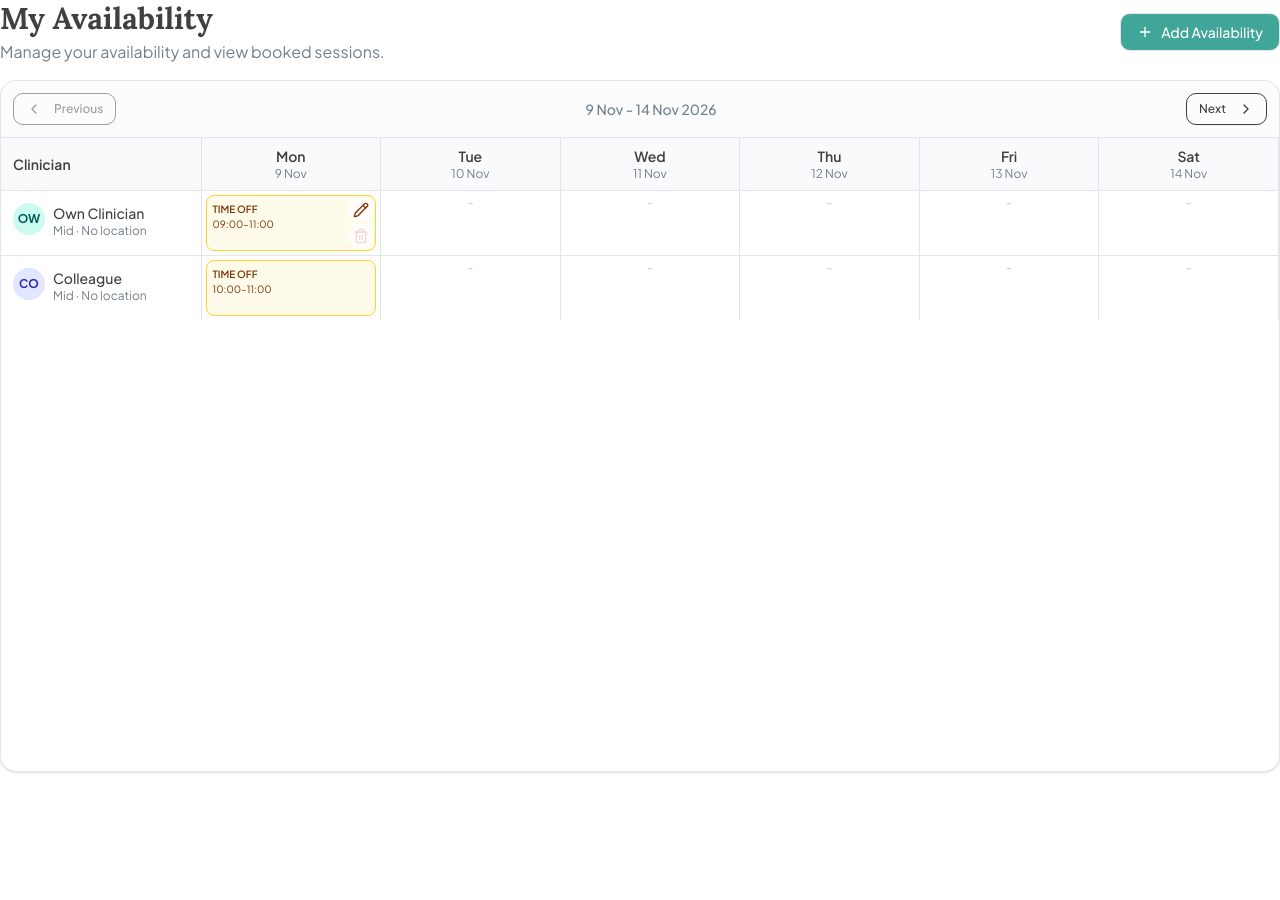
removes an own block after confirmation but offers no delete control for a colleague
Click the button with test id "button-delete-time-off-own-block": (361, 236) [349,224,373,248]
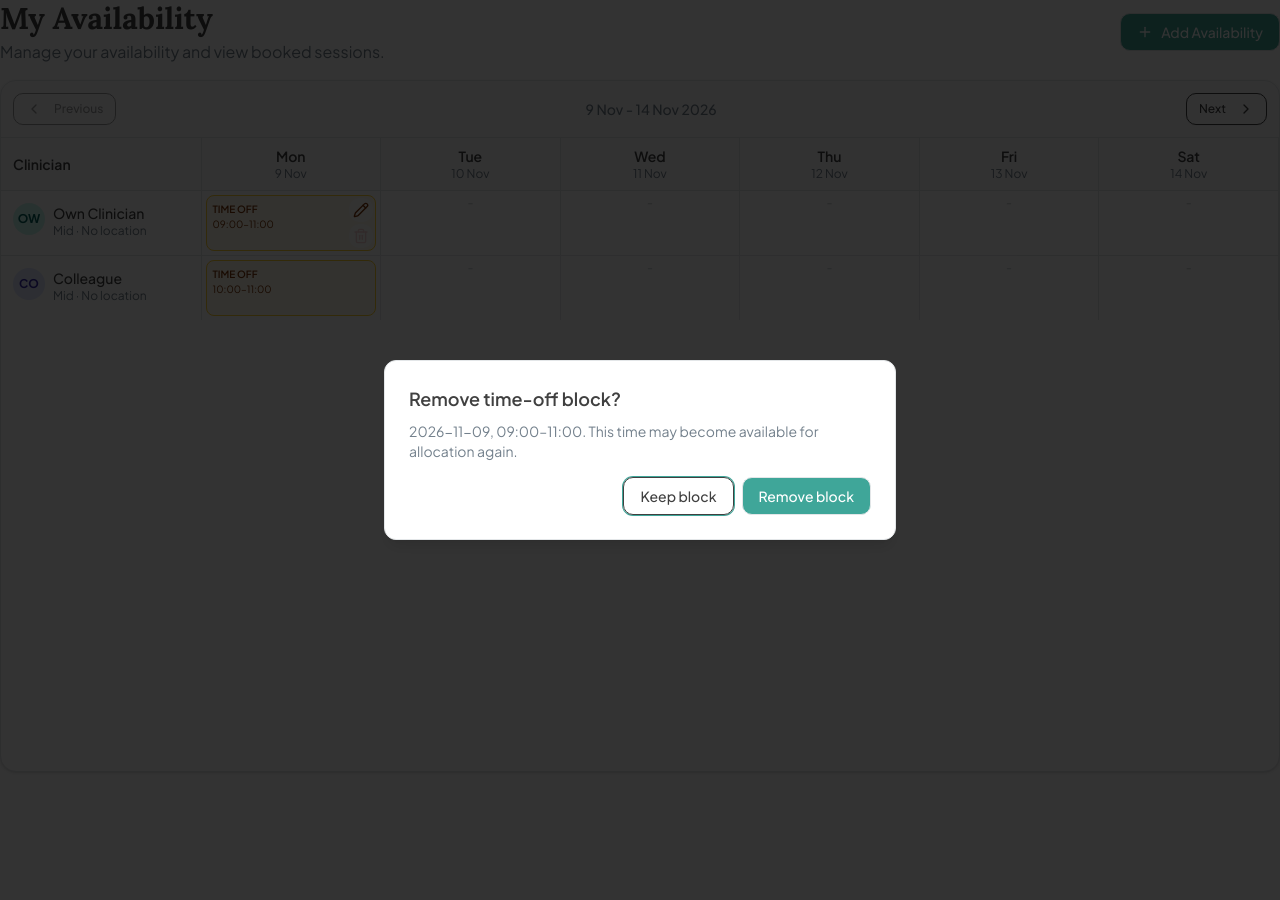
Click the button with test id "button-confirm-delete-time-off": (806, 496) [742,477,871,515]
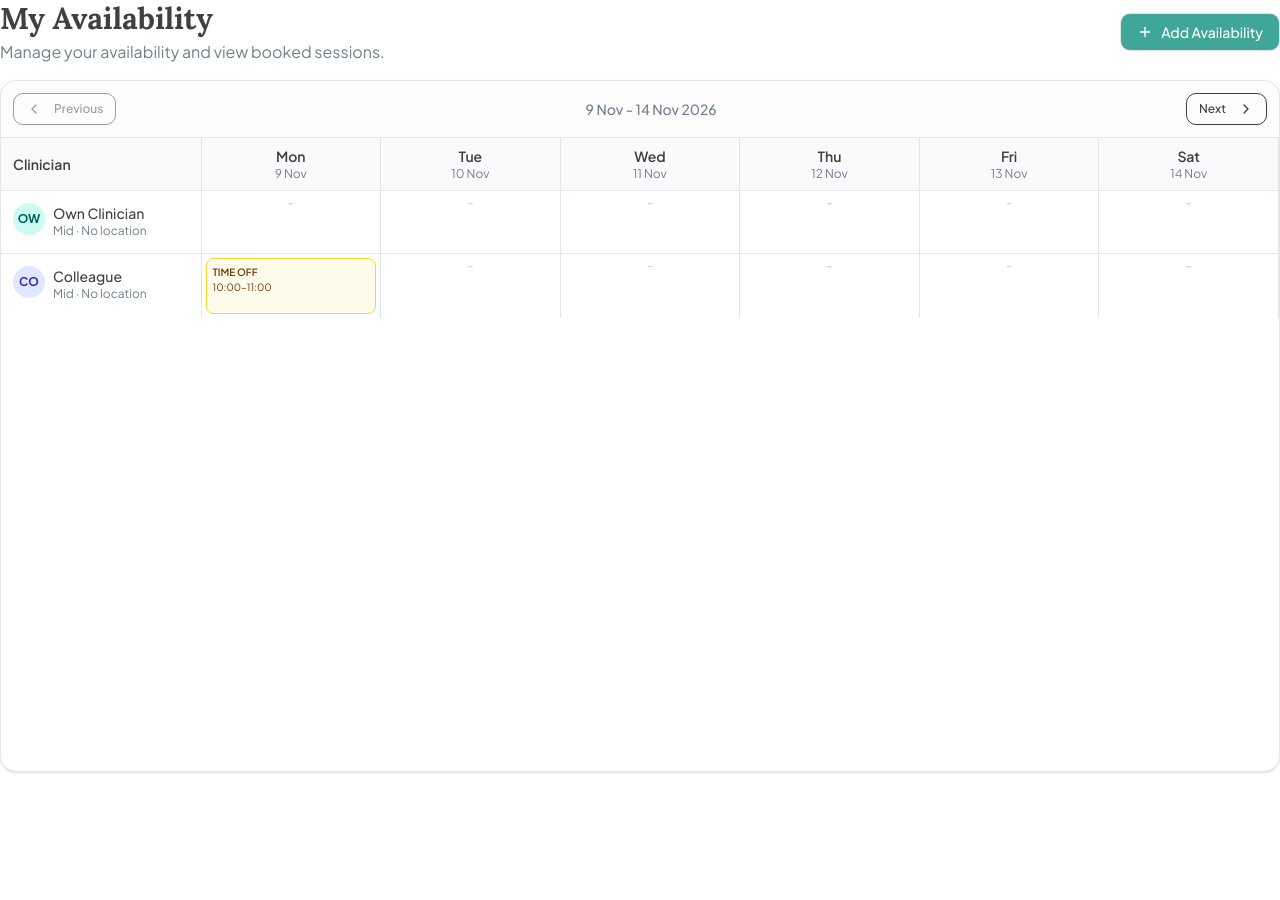
Expected: the element with test id "time-off-block-colleague-block" is shown, [206,258,376,314]
Expected: the element with test id "time-off-block-own-block" is gone
